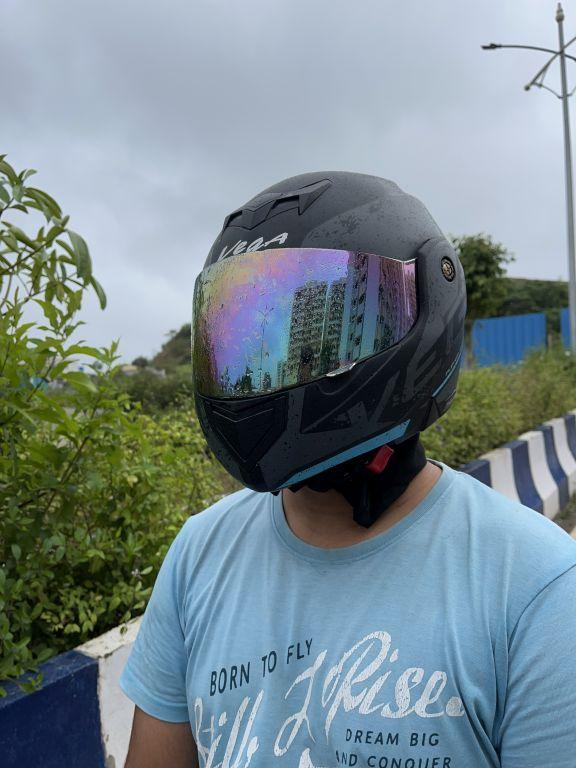helmet: (184, 160, 472, 507)
